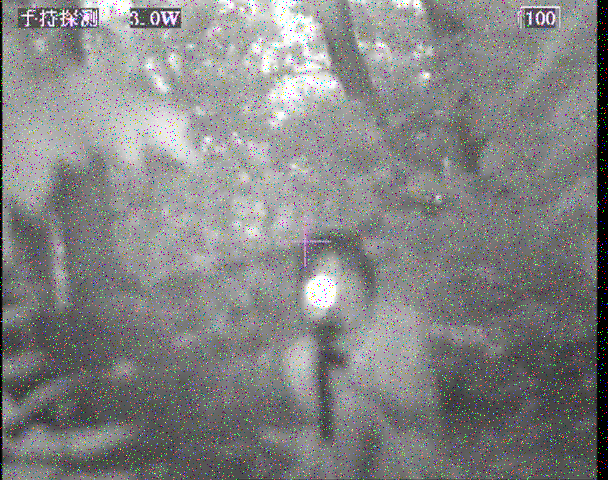my: (304, 274, 341, 309)
